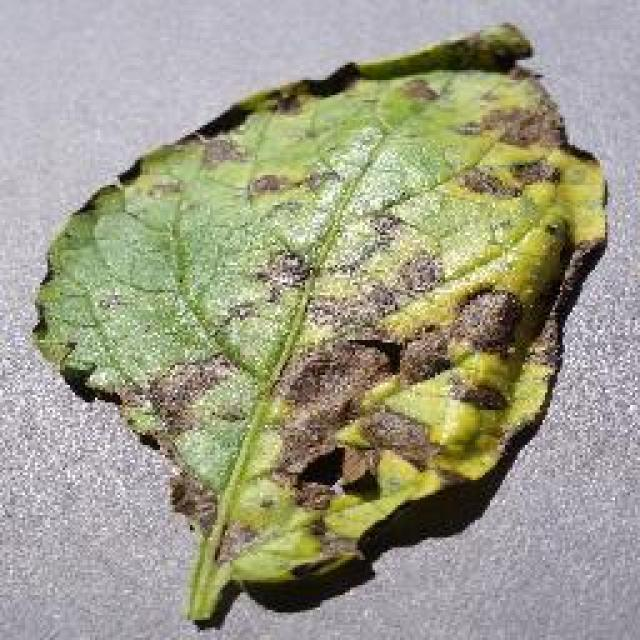early_blight: (28, 18, 612, 630)
